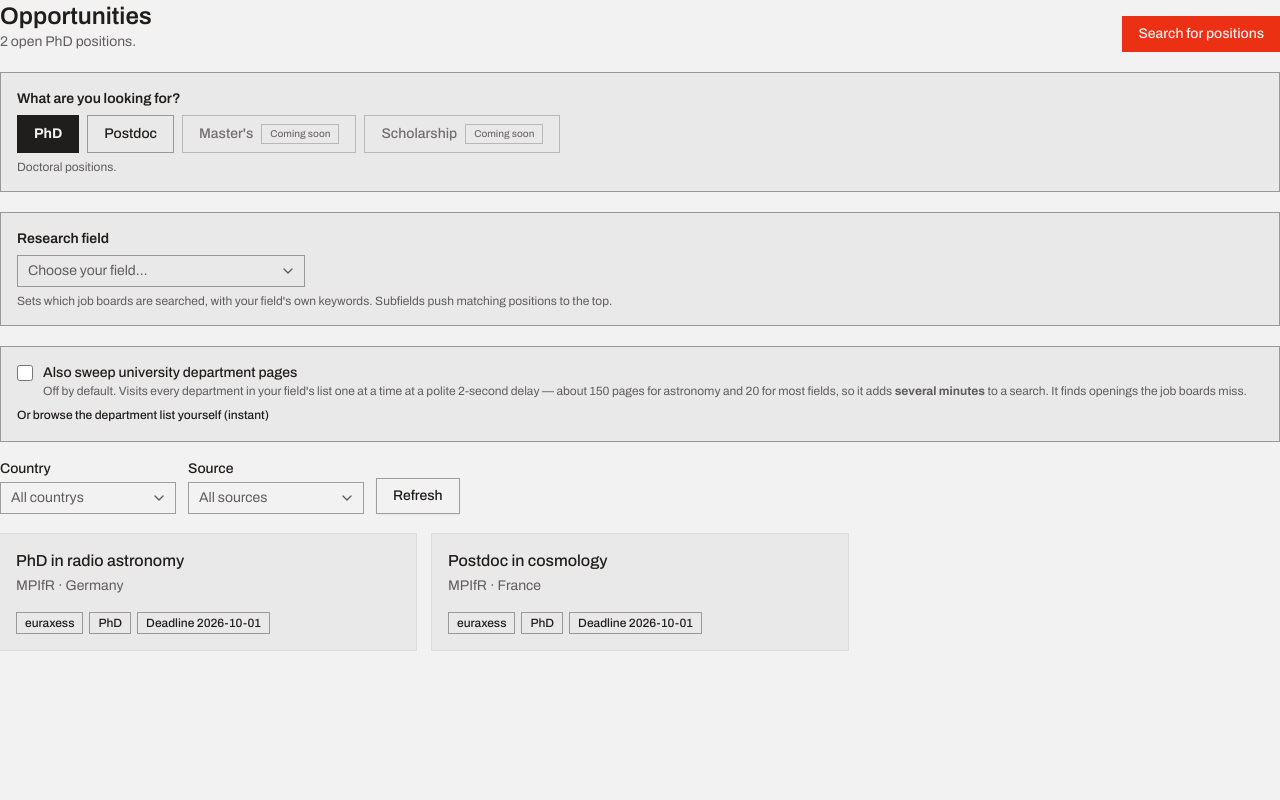
Test case: OpportunitiesPage › offers browsing the departments manually instead (2B)
The width and height of the screenshot is (1280, 800).
expect the link "PhD in radio astronomy" is shown: met, box x1=16 y1=552 x2=184 y2=569
Click the dropdown named "Research field".
click(88, 271)  # box x1=17 y1=255 x2=305 y2=287
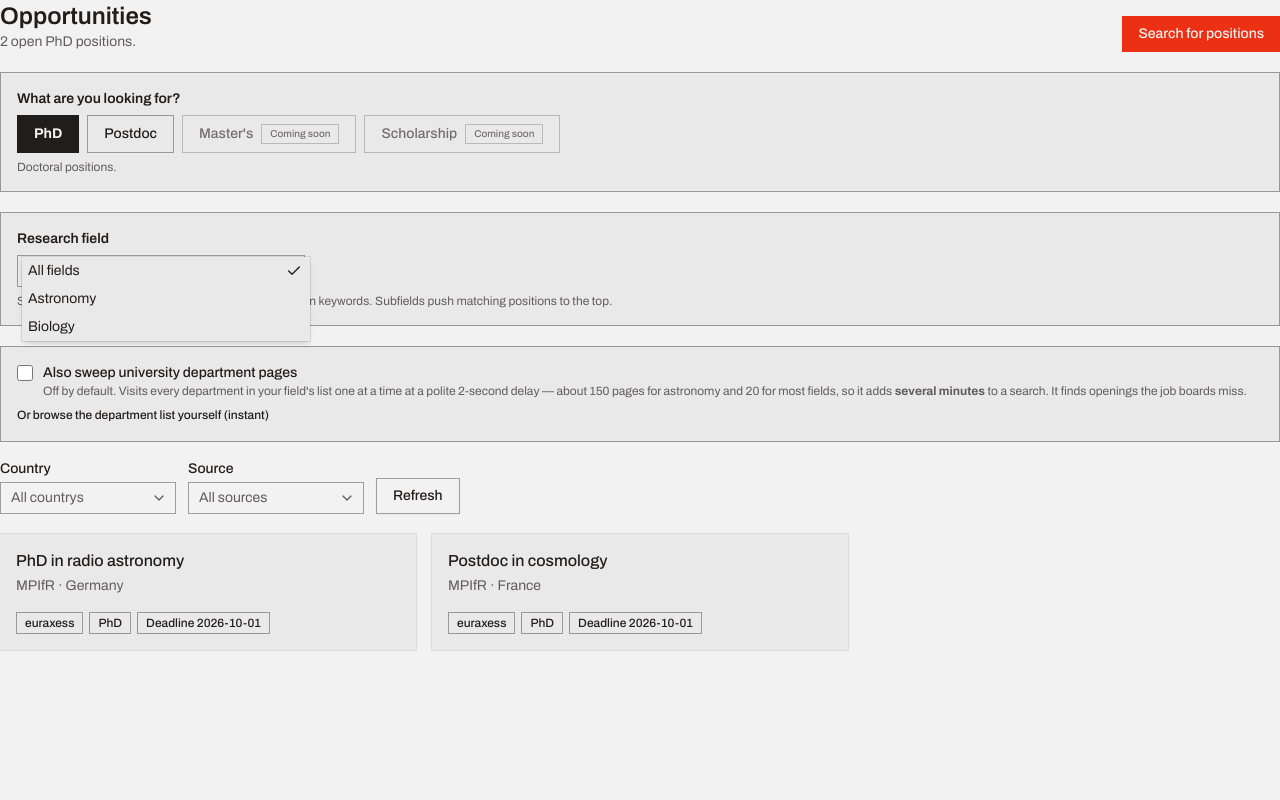
Click the option "Astronomy".
click(62, 299)  # box x1=28 y1=291 x2=96 y2=306
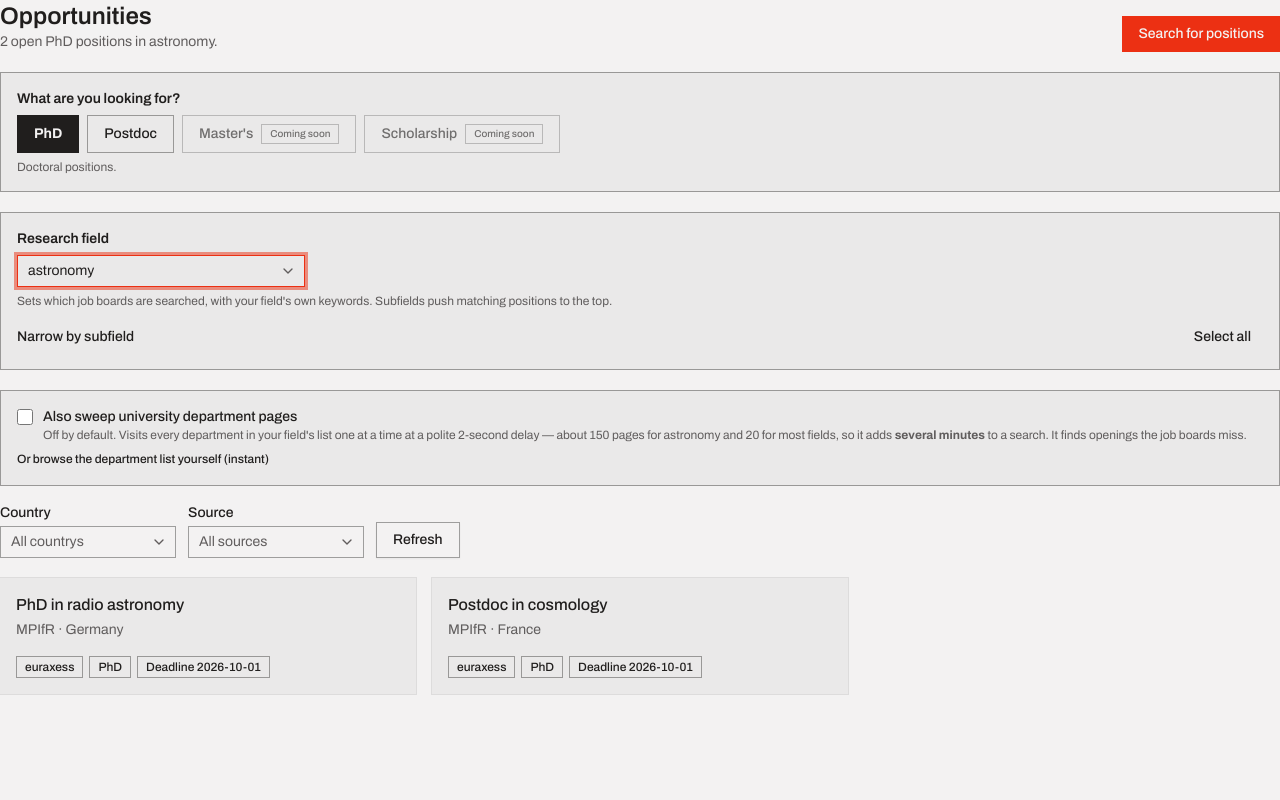
Click the button "Or browse the department list yourself (instant)".
click(143, 459)  # box x1=17 y1=451 x2=269 y2=467
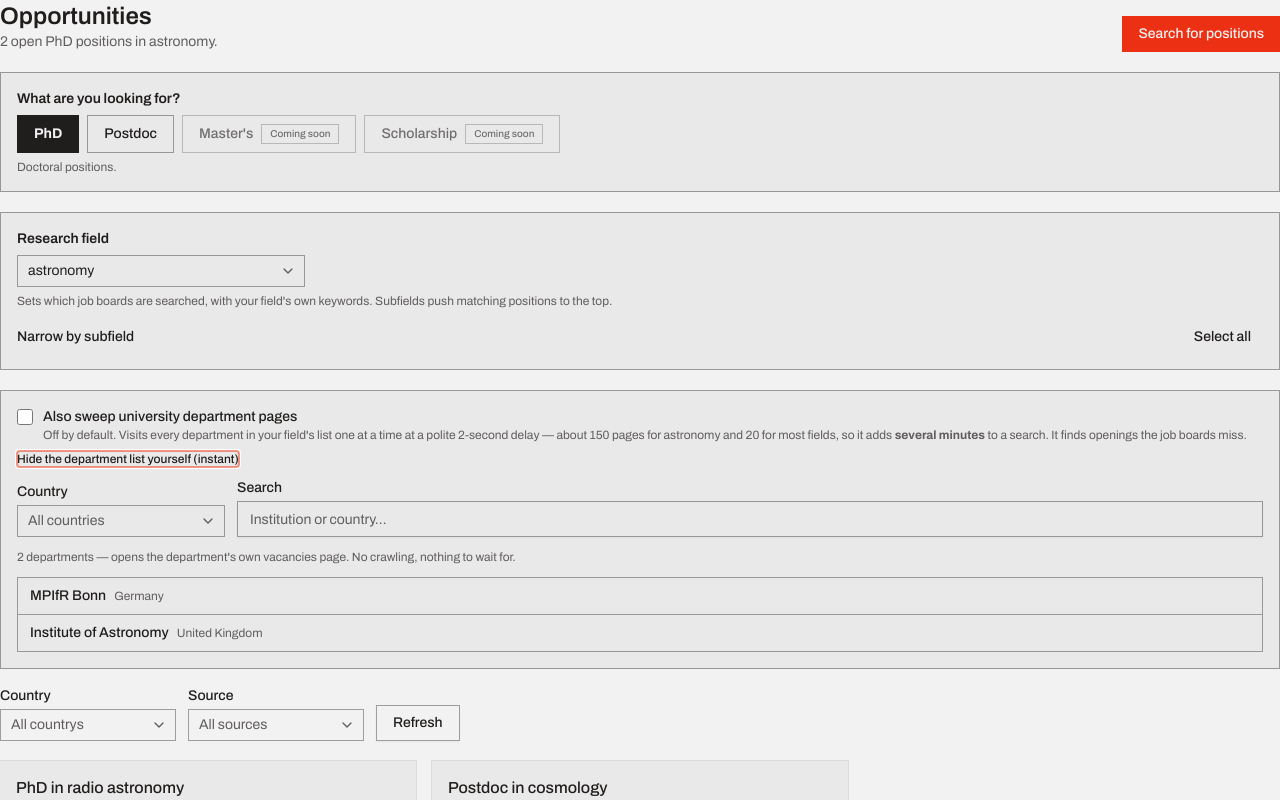
expect the text "2 departments" is shown: met, box x1=17 y1=550 x2=94 y2=564
